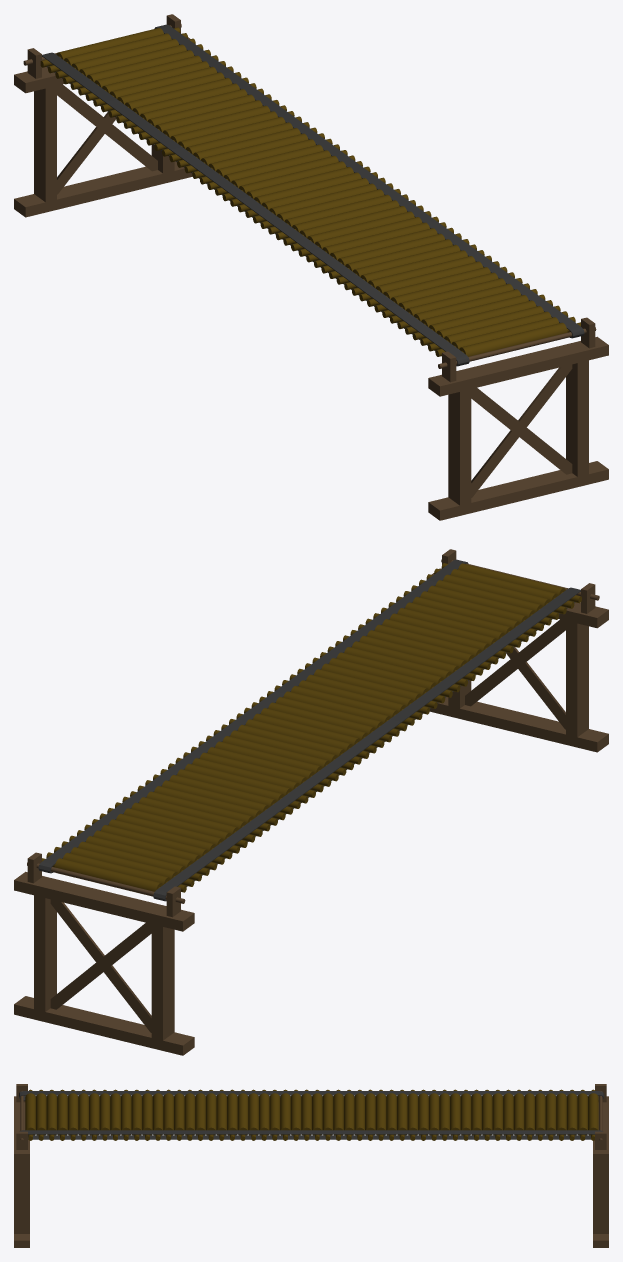
Rendered from Systeme_SansManivelle.fbx.
3 views of the same model, one above another, from view 1: azimuth 30°, elevation 25°; view 2: azimuth 150°, elevation 25°; view 3: azimuth 270°, elevation 25° (orthographic). The views are drawn at different scales.
Parts seen in each view (by area): view 1: Cylinder.009, Cylinder.004, Cylinder.005, Cube.003, Cube.004; view 2: Cylinder.009, Cylinder.005, Cylinder.004, Cube.003, Cube.004; view 3: Cylinder.009, Cube.004, Cylinder.004, Cylinder.005, Cube.003.
Boxes of the visible parts, x1,y1,x2,y2 form: Cylinder.009: (40, 27, 580, 356); Cylinder.004: (428, 317, 608, 520); Cylinder.005: (14, 14, 192, 217); Cube.003: (42, 52, 469, 366); Cube.004: (154, 24, 584, 338); Cylinder.009: (41, 563, 581, 894); Cylinder.005: (14, 852, 194, 1055); Cylinder.004: (430, 549, 608, 752); Cube.003: (153, 587, 580, 901); Cube.004: (38, 559, 468, 873); Cylinder.009: (25, 1089, 598, 1140); Cube.004: (20, 1130, 602, 1139); Cylinder.004: (14, 1084, 29, 1247); Cylinder.005: (593, 1084, 608, 1247); Cube.003: (19, 1091, 604, 1100).
Size of the model in its own units: 262 by 234 by 1143.
